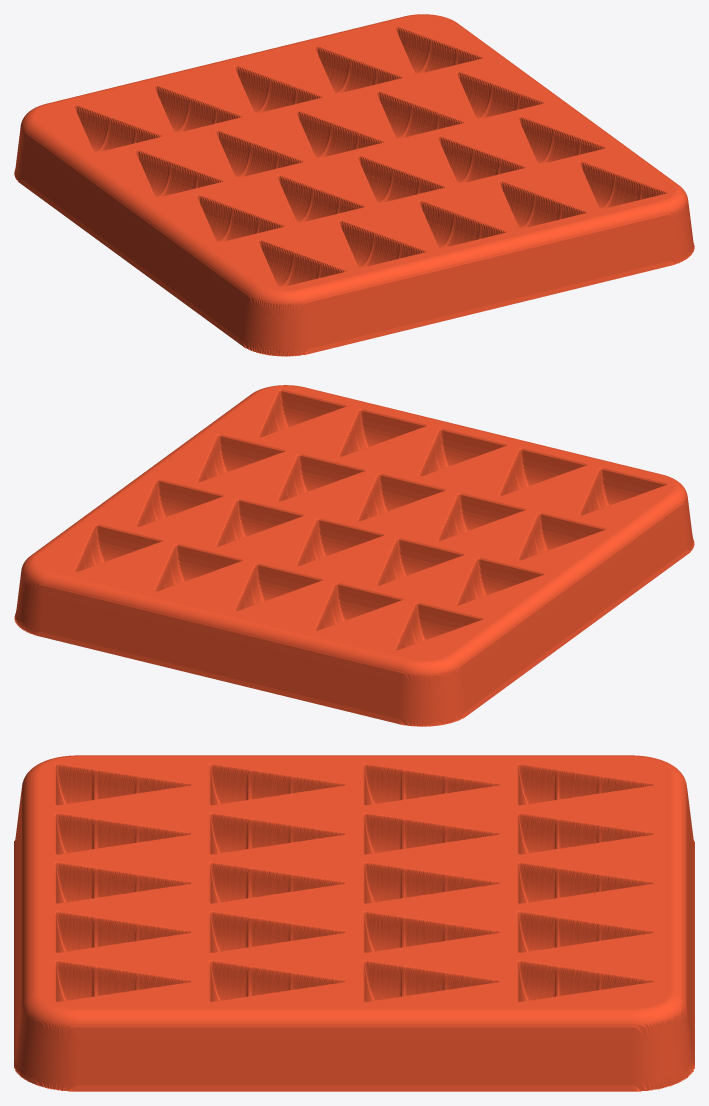
The model's file is mold.glb.
The picture shows the model from 3 angles, top to bottom: view 1: azimuth 30°, elevation 25°; view 2: azimuth 150°, elevation 25°; view 3: azimuth 270°, elevation 25°; orthographic projection. The views are drawn at different scales.
Parts seen in each view (by area): view 1: geometry_0; view 2: geometry_0; view 3: geometry_0.
Boxes of the visible parts, x1,y1,x2,y2 form: geometry_0: (14,14,694,356); geometry_0: (14,385,694,726); geometry_0: (14,755,694,1091).
Size of the model in its own units: 0.0922 by 0.0114 by 0.0972.
